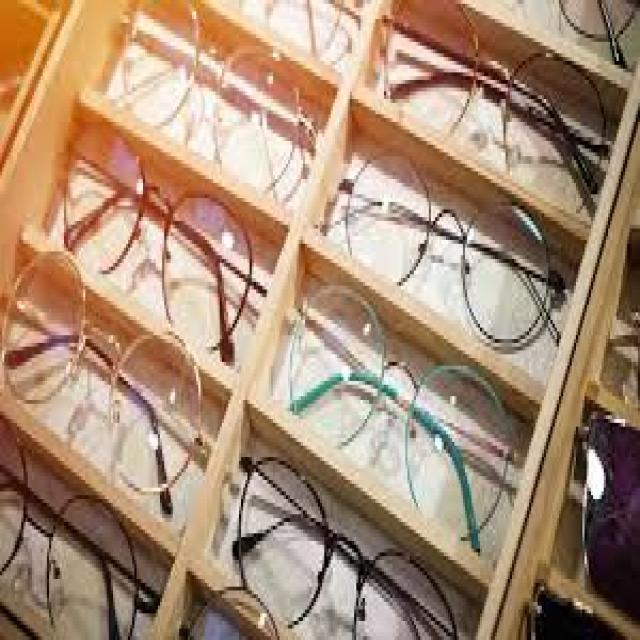specticles: (290, 283, 536, 585)
